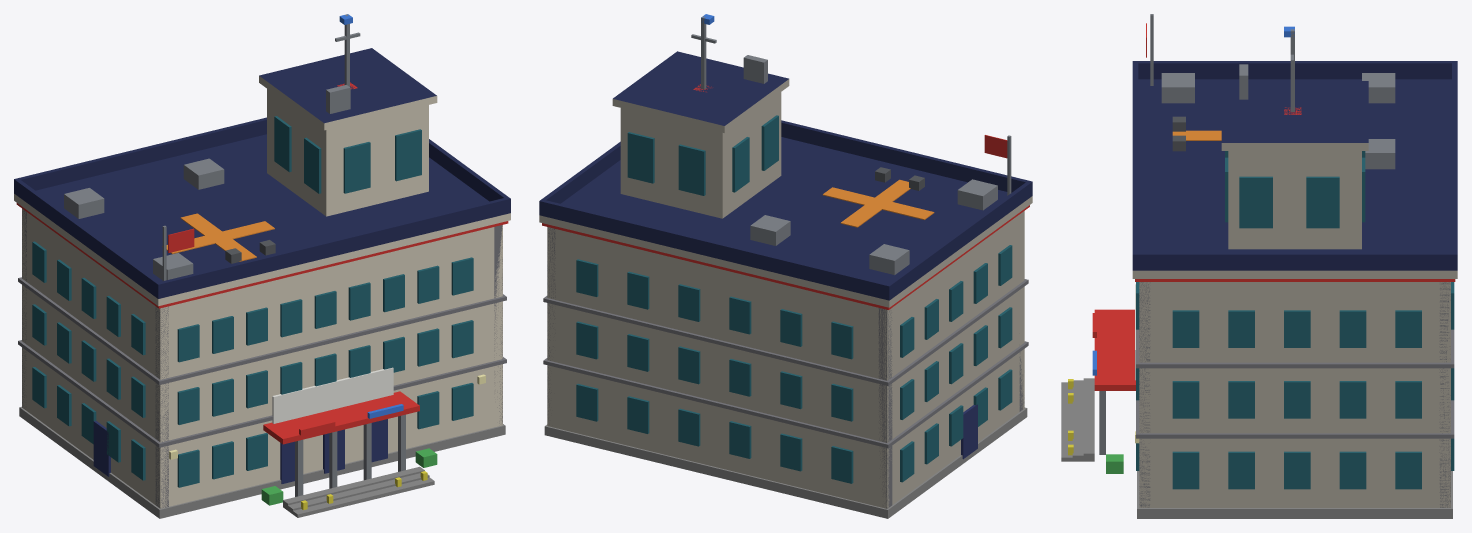
The model's file is SafetyHQ.fbx.
3 renders of one model, left to right at view 1: azimuth 30°, elevation 25°; view 2: azimuth 150°, elevation 25°; view 3: azimuth 270°, elevation 25°, orthographic. The views are drawn at different scales.
Parts seen in each view (by area): view 1: SafetyHQ; view 2: SafetyHQ; view 3: SafetyHQ.
Boxes of the visible parts, x1,y1,x2,y2 form: SafetyHQ: (14, 14, 510, 518); SafetyHQ: (539, 14, 1032, 518); SafetyHQ: (1061, 14, 1457, 518).
Bounding box in the file's own units: 2060 × 2180 × 1780.
